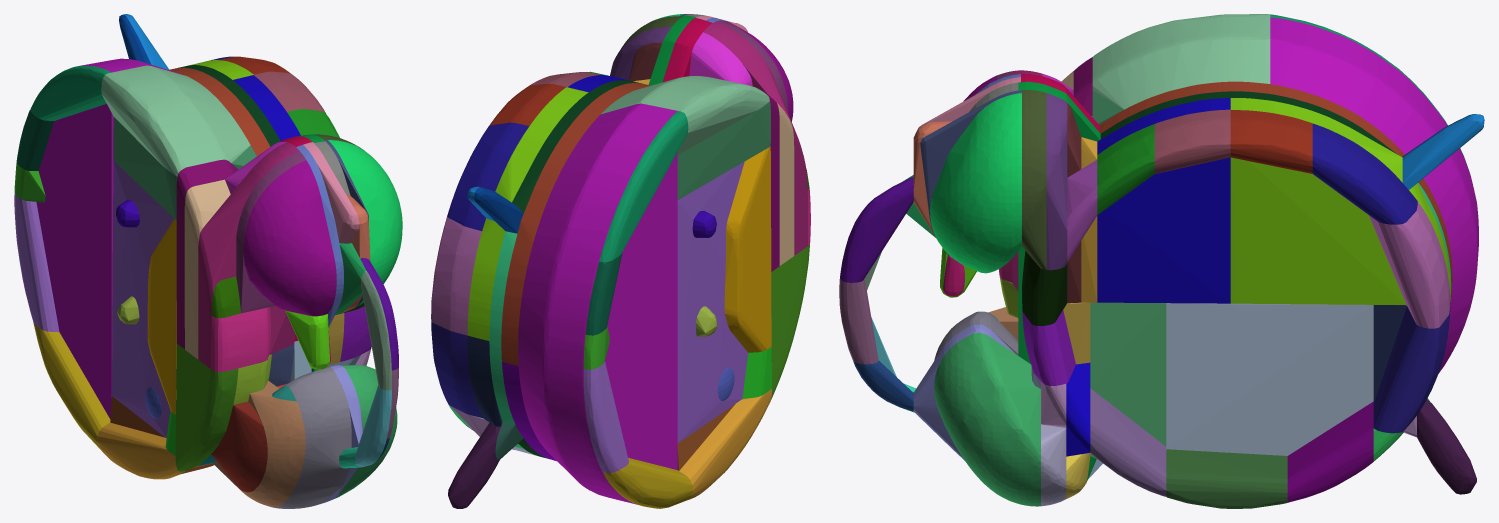
File: coacd_collision.obj
3 renders of one model, left to right at view 1: azimuth 30°, elevation 25°; view 2: azimuth 150°, elevation 25°; view 3: azimuth 270°, elevation 25°, orthographic. The views are drawn at different scales.
Parts seen in each view (by area): view 1: geometry_22, geometry_14, geometry_39, geometry_46, geometry_45, geometry_56, geometry_30, geometry_52, geometry_23, geometry_59, geometry_48, geometry_92 (+41 smaller); view 2: geometry_22, geometry_46, geometry_59, geometry_31, geometry_4, geometry_39, geometry_53, geometry_43, geometry_7, geometry_75, geometry_20, geometry_56 (+29 smaller); view 3: geometry_6, geometry_4, geometry_5, geometry_22, geometry_10, geometry_23, geometry_39, geometry_3, geometry_19, geometry_20, geometry_7, geometry_18 (+33 smaller).
Boxes of the visible parts, box(x1,y1,x2,y2) form: geometry_22: box(36, 58, 184, 419); geometry_14: box(243, 160, 336, 316); geometry_39: box(101, 65, 250, 176); geometry_46: box(112, 161, 174, 438); geometry_45: box(273, 367, 351, 508); geometry_56: box(198, 142, 299, 368); geometry_30: box(175, 344, 238, 471); geometry_52: box(212, 381, 305, 507); geometry_23: box(328, 140, 402, 305); geometry_59: box(147, 219, 176, 414); geometry_48: box(33, 322, 110, 448); geometry_92: box(184, 179, 230, 359); geometry_22: box(518, 103, 677, 504); geometry_46: box(677, 161, 748, 442); geometry_59: box(724, 146, 771, 352); geometry_31: box(501, 83, 650, 366); geometry_4: box(467, 87, 588, 340); geometry_39: box(601, 76, 769, 154); geometry_53: box(599, 111, 688, 262); geometry_43: box(677, 101, 770, 199); geometry_7: box(431, 216, 481, 335); geometry_75: box(679, 389, 771, 500); geometry_20: box(447, 122, 529, 230); geometry_56: box(703, 21, 807, 255); geometry_6: box(1166, 303, 1373, 455); geometry_4: box(1230, 98, 1450, 305); geometry_5: box(1097, 98, 1230, 303); geometry_22: box(1270, 17, 1478, 373); geometry_10: box(934, 332, 1040, 506); geometry_23: box(930, 93, 1021, 273); geometry_39: box(1092, 14, 1270, 109); geometry_3: box(1090, 302, 1166, 458); geometry_19: box(1166, 449, 1287, 508); geometry_20: box(1312, 123, 1417, 224); geometry_7: box(1369, 202, 1450, 328); geometry_18: box(1373, 306, 1450, 433).
Size of the model in its own units: 60.09 by 118 by 159.
